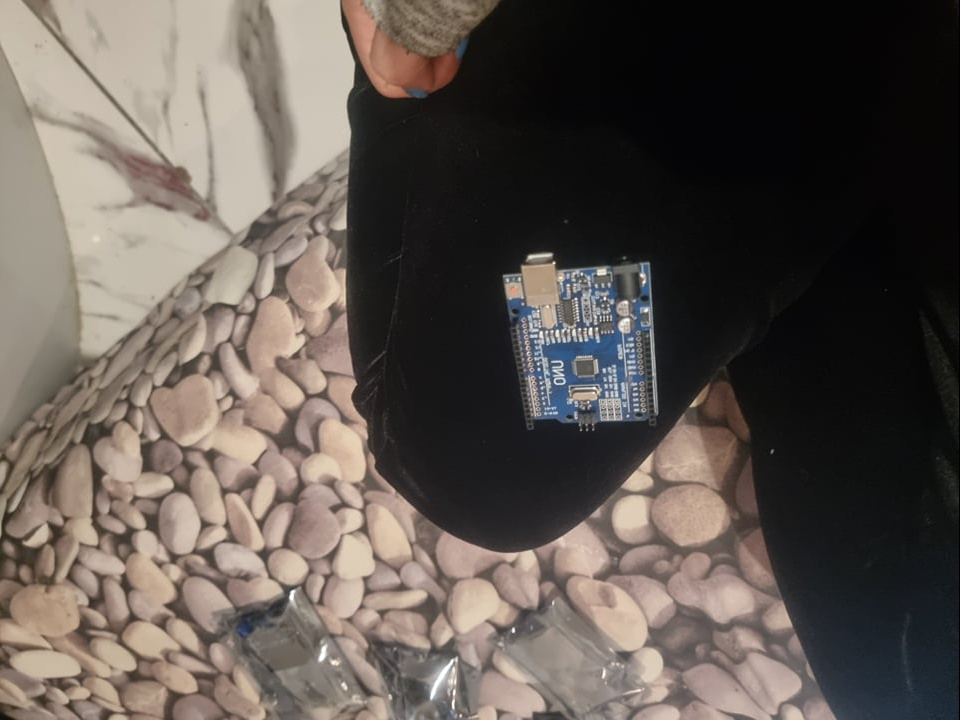UNO R3: (500, 253, 663, 432)
